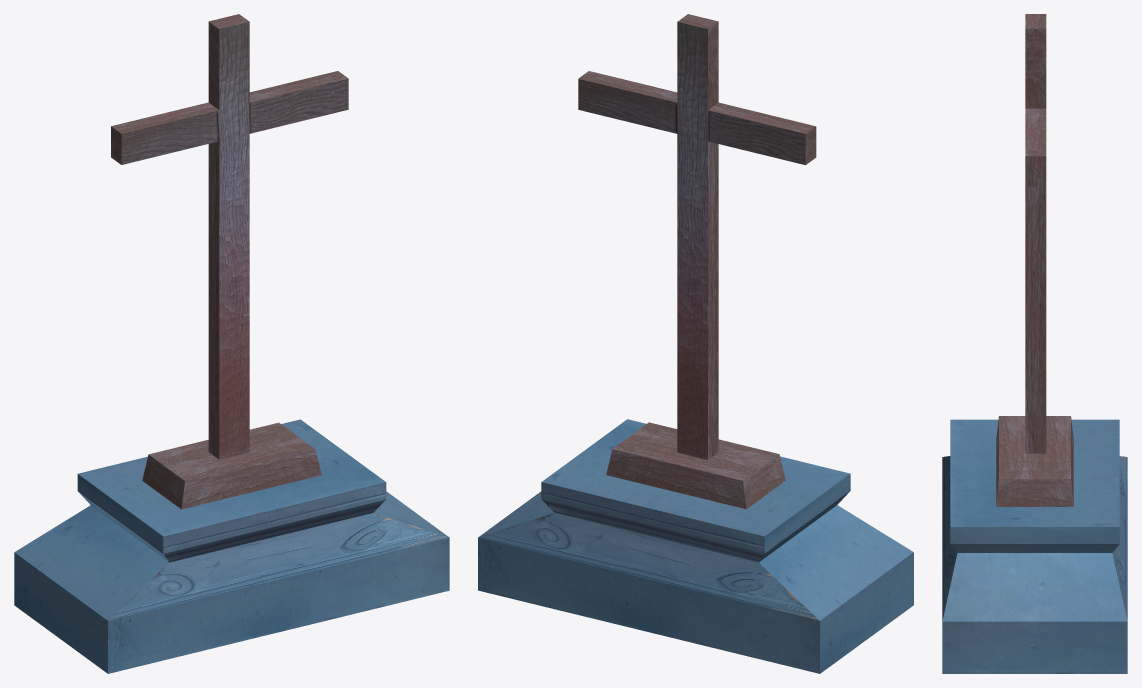
The model's file is Cross.fbx.
3 views of the same model, side by side, from view 1: azimuth 30°, elevation 25°; view 2: azimuth 150°, elevation 25°; view 3: azimuth 270°, elevation 25° (orthographic).
Parts seen in each view (by area): view 1: Base, Cross; view 2: Base, Cross; view 3: Base, Cross.
Part boxes in pixels (x1,y1,x2,y2): Base: (14,419,449,673); Cross: (111,14,348,509); Base: (478,419,913,673); Cross: (578,14,816,509); Base: (942,419,1127,673); Cross: (996,14,1073,506).
Size of the model in its own units: 294 by 475 by 140.
2 materials, 2 textured.
